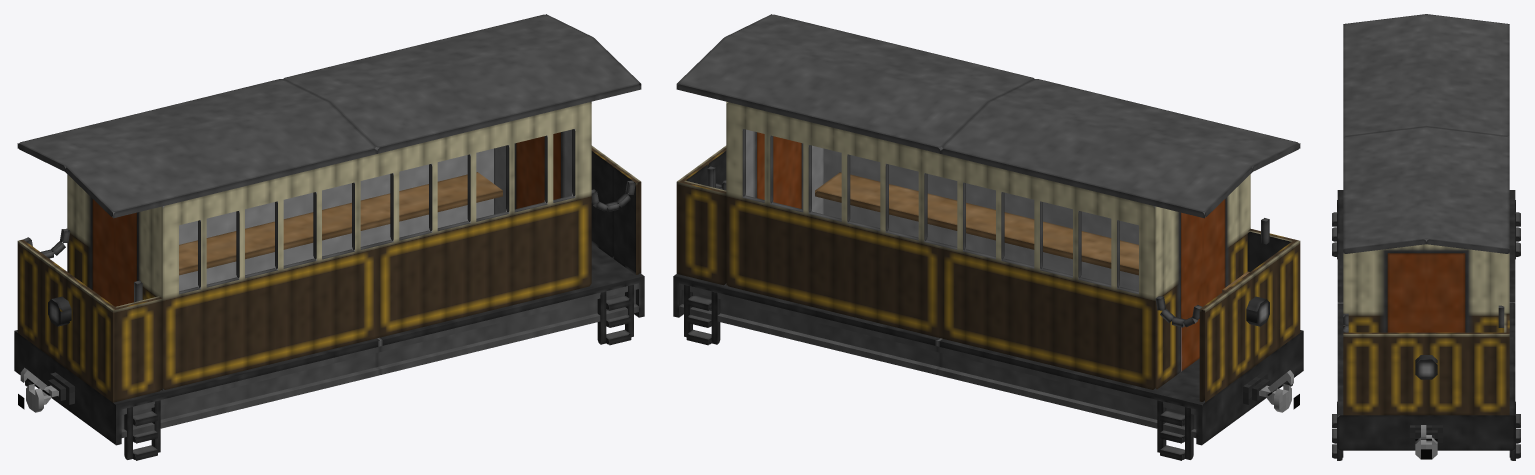
The model's file is kitsune_stormpeak_electra_bat_railcar_single.obj.
3 renders of one model, left to right at view 1: azimuth 30°, elevation 25°; view 2: azimuth 150°, elevation 25°; view 3: azimuth 270°, elevation 25°, orthographic. The views are drawn at different scales.
Visible parts, largest first — view 1: SHELL_WOOD_roof_Cube.013, SHELL_WOOD.001_Cube.045, SHELL_WOOD_Cube.047, SHELL_WOOD_cab_Cube.034, SHELL_WOOD_INTERIOR.001_Cube.044, FRAME.001_Cube.057, FRAME_Cube.068, FRAME_cab_Cube.056, SHELL_WOOD_INTERIOR_Cube.044, SHELL_WOOD_cab_roof_Cube.042, SHELL_WOOD_cab_roof.001_Cube.019, SHELL_WOOD_cab.001_Cube.007 (+6 smaller); view 2: SHELL_WOOD_roof_Cube.013, SHELL_WOOD.001_Cube.045, SHELL_WOOD_Cube.047, SHELL_WOOD_cab_Cube.034, SHELL_WOOD_INTERIOR.001_Cube.044, FRAME_Cube.068, FRAME.001_Cube.057, FRAME_cab_Cube.056, SHELL_WOOD_cab.001_Cube.007, SHELL_WOOD_INTERIOR_Cube.044, SHELL_WOOD_cab_roof_Cube.042, SHELL_WOOD_cab_roof.001_Cube.019 (+6 smaller); view 3: SHELL_WOOD_roof_Cube.013, SHELL_WOOD_cab.001_Cube.007, FRAME_cab.001_Cube.054, SHELL_WOOD_cab_roof.001_Cube.019, SHELL_WOOD_cab_roof_Cube.042, DOOR_3_Cube.038, DOOR_4_Cube.039, FRAME_Cube.068, FRAME.001_Cube.057, COUPLER_ENGAGED_REAR_2_TOGGLE_LABEL_Uncouple_Cube.003, FRAME_cab_Cube.056, WIDGET_2_CG_headrear_TOGGLE_LABEL_Rear^Headlight_Cube.017.
Part boxes in pixels (bbox=[...]): SHELL_WOOD_roof_Cube.013: bbox=[70, 26, 588, 205]; SHELL_WOOD.001_Cube.045: bbox=[374, 102, 588, 338]; SHELL_WOOD_Cube.047: bbox=[165, 154, 376, 389]; SHELL_WOOD_cab_Cube.034: bbox=[17, 174, 165, 402]; SHELL_WOOD_INTERIOR.001_Cube.044: bbox=[285, 129, 575, 265]; FRAME.001_Cube.057: bbox=[377, 286, 592, 374]; FRAME_Cube.068: bbox=[165, 338, 380, 426]; FRAME_cab_Cube.056: bbox=[14, 330, 168, 460]; SHELL_WOOD_INTERIOR_Cube.044: bbox=[162, 182, 354, 291]; SHELL_WOOD_cab_roof_Cube.042: bbox=[17, 130, 165, 218]; SHELL_WOOD_cab_roof.001_Cube.019: bbox=[494, 14, 641, 102]; SHELL_WOOD_cab.001_Cube.007: bbox=[589, 101, 641, 286]; SHELL_WOOD_roof_Cube.013: bbox=[729, 26, 1247, 205]; SHELL_WOOD.001_Cube.045: bbox=[729, 102, 943, 338]; SHELL_WOOD_Cube.047: bbox=[941, 154, 1152, 389]; SHELL_WOOD_cab_Cube.034: bbox=[1152, 174, 1300, 402]; SHELL_WOOD_INTERIOR.001_Cube.044: bbox=[742, 129, 1032, 265]; FRAME_Cube.068: bbox=[937, 338, 1152, 426]; FRAME.001_Cube.057: bbox=[725, 286, 940, 374]; FRAME_cab_Cube.056: bbox=[1149, 330, 1303, 460]; SHELL_WOOD_cab.001_Cube.007: bbox=[676, 101, 728, 286]; SHELL_WOOD_INTERIOR_Cube.044: bbox=[963, 182, 1155, 291]; SHELL_WOOD_cab_roof_Cube.042: bbox=[1152, 130, 1300, 218]; SHELL_WOOD_cab_roof.001_Cube.019: bbox=[676, 14, 823, 102]; SHELL_WOOD_roof_Cube.013: bbox=[1343, 36, 1509, 226]; SHELL_WOOD_cab.001_Cube.007: bbox=[1343, 244, 1509, 415]; FRAME_cab.001_Cube.054: bbox=[1332, 393, 1520, 460]; SHELL_WOOD_cab_roof.001_Cube.019: bbox=[1343, 217, 1509, 253]; SHELL_WOOD_cab_roof_Cube.042: bbox=[1343, 14, 1509, 46]; DOOR_3_Cube.038: bbox=[1426, 253, 1465, 332]; DOOR_4_Cube.039: bbox=[1387, 253, 1426, 332]; FRAME_Cube.068: bbox=[1337, 212, 1515, 303]; FRAME.001_Cube.057: bbox=[1337, 302, 1515, 392]; COUPLER_ENGAGED_REAR_2_TOGGLE_LABEL_Uncouple_Cube.003: bbox=[1410, 425, 1442, 459]; FRAME_cab_Cube.056: bbox=[1332, 190, 1520, 259]; WIDGET_2_CG_headrear_TOGGLE_LABEL_Rear^Headlight_Cube.017: bbox=[1415, 355, 1437, 379].
Size of the model in its own units: 7 by 2.94 by 2.13.
4 materials, 4 textured.
